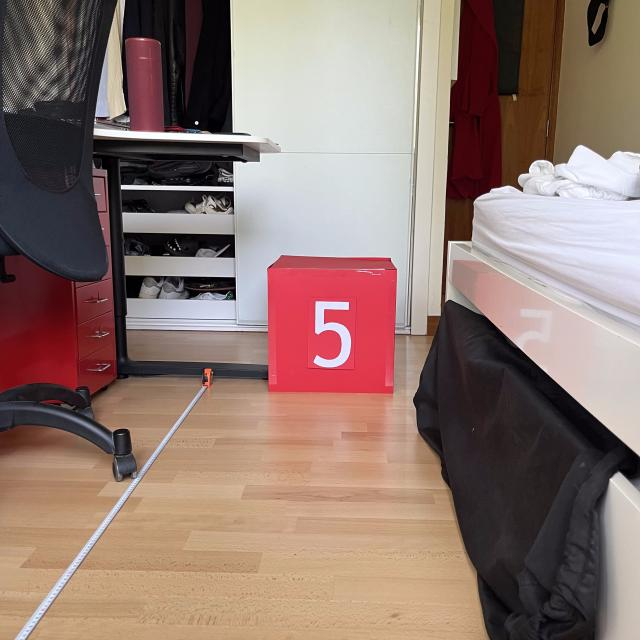box: (263, 250, 399, 396)
